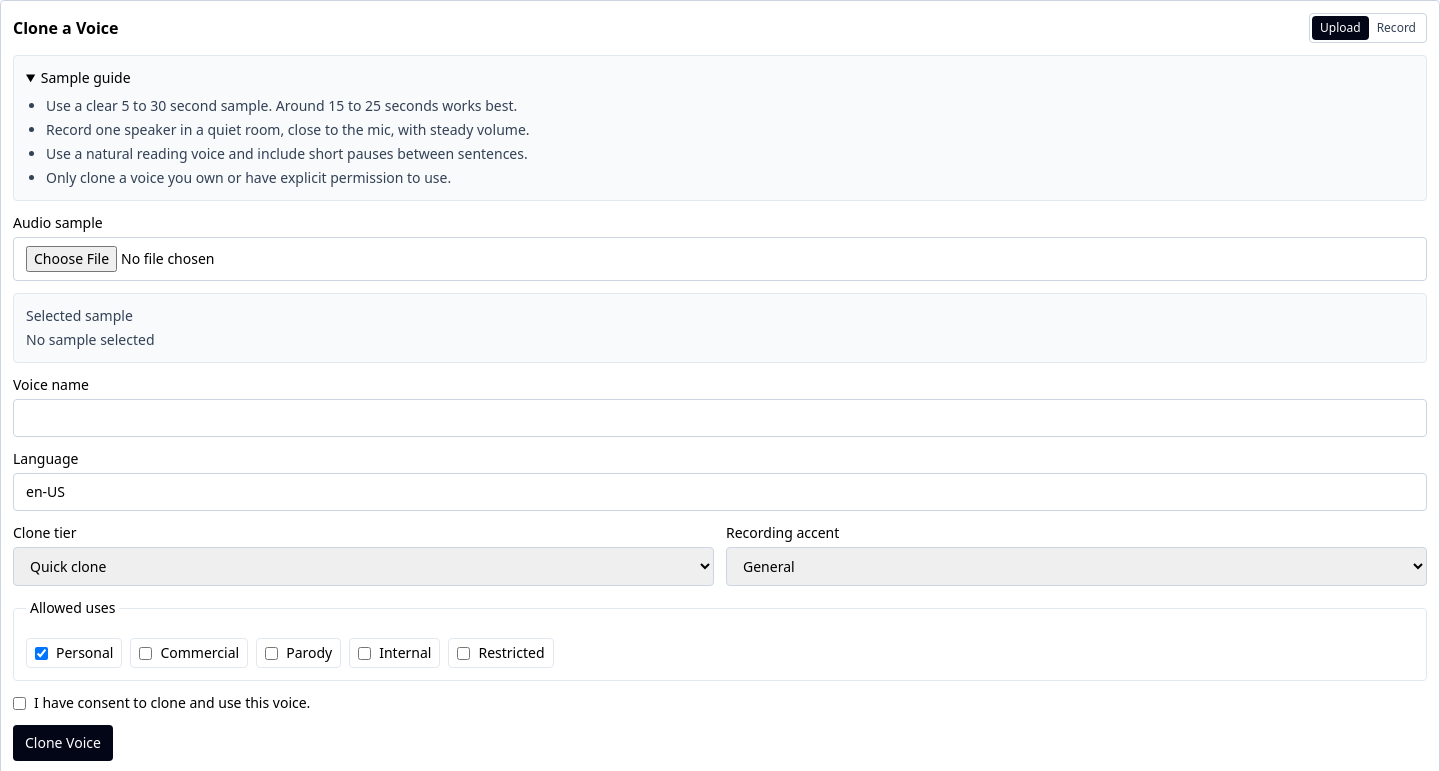
Test: ClonePanel › shows clone guidance and the local recording script
Expected: the list item "5 to 30 second sample" is shown, x1=46 y1=96 x2=517 y2=115
Click the tab "Record" at [1396, 28], box x1=1369 y1=16 x2=1424 y2=40
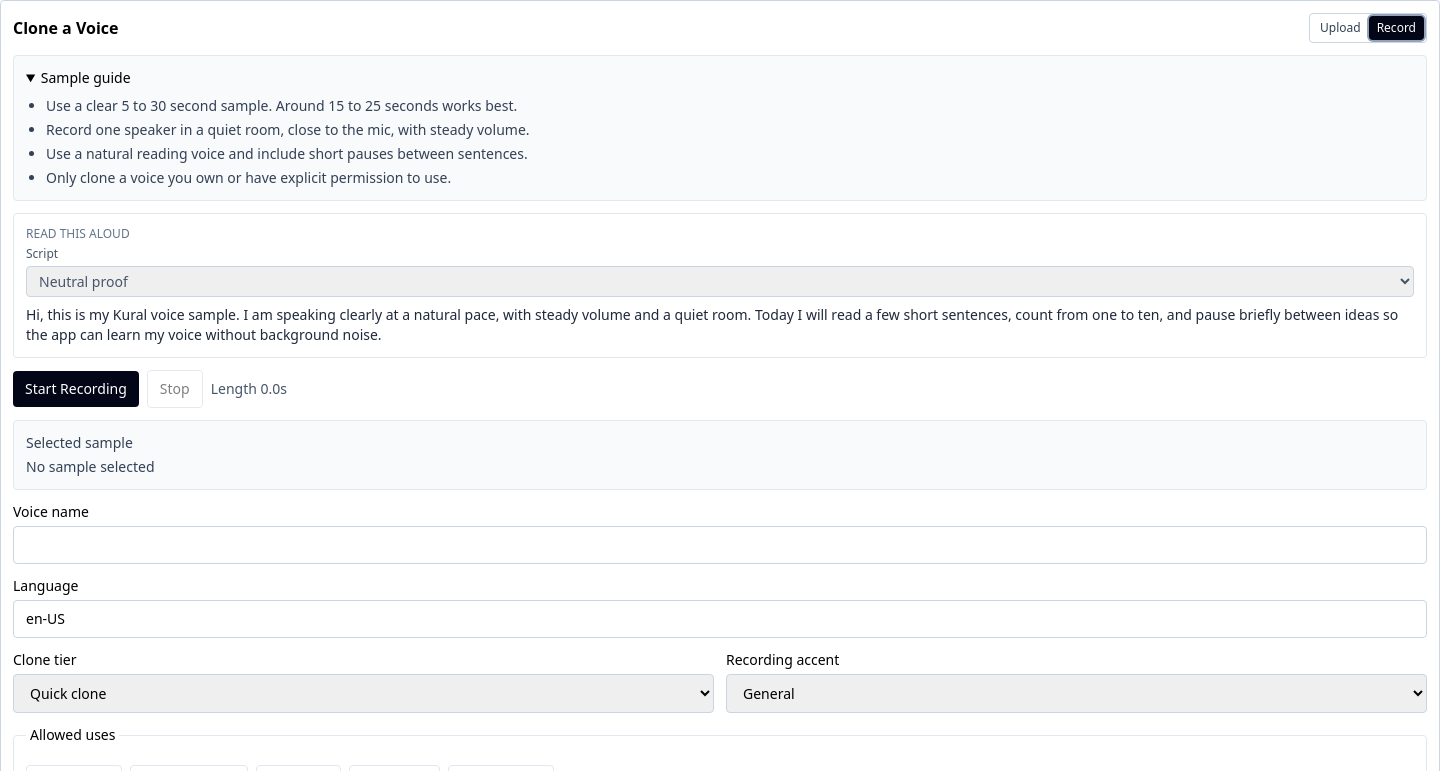
Expected: the text "Read this aloud" is shown, x1=26 y1=225 x2=130 y2=242
Expected: the text "this is my Kural voice sample" is shown, x1=26 y1=305 x2=1398 y2=344
Expected: the dropdown labelled "Script" is shown, x1=26 y1=266 x2=1414 y2=297
